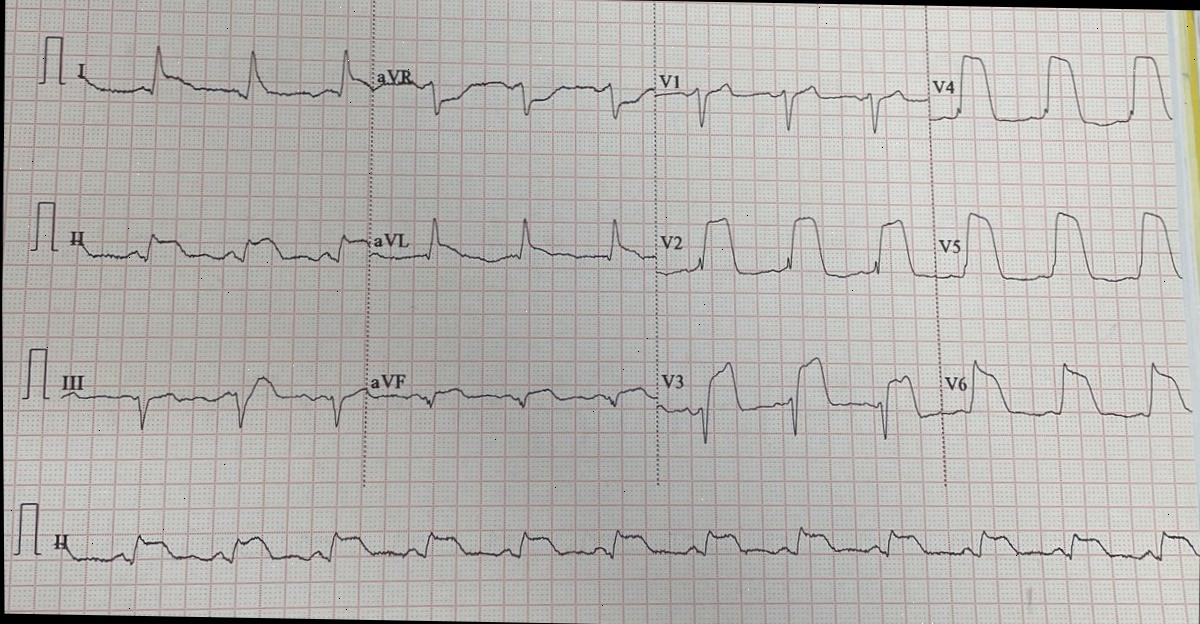Lead_I: (70, 26, 375, 139)
Lead_II: (65, 197, 375, 285)
Lead_III: (51, 357, 366, 446)
Lead_II_ext: (43, 494, 1200, 596)
Lead_V1: (657, 54, 930, 153)
Lead_V2: (655, 199, 938, 300)
Lead_V3: (654, 343, 943, 468)
Lead_V4: (925, 36, 1179, 150)
Lead_V5: (932, 195, 1195, 300)
Lead_V6: (940, 343, 1196, 436)
Lead_aVF: (361, 356, 657, 426)
Lead_aVL: (370, 198, 660, 296)
Lead_aVR: (375, 46, 660, 134)
